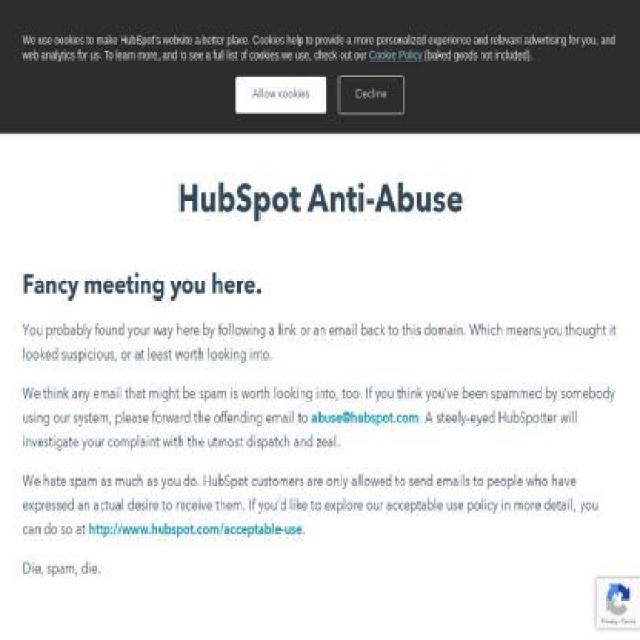button: (402, 80, 484, 134), (279, 80, 355, 134), (108, 10, 192, 58), (483, 80, 557, 134), (22, 11, 104, 58), (235, 75, 327, 114), (521, 16, 613, 53), (556, 80, 618, 134), (338, 74, 405, 114), (446, 15, 514, 54), (355, 80, 402, 134), (22, 94, 88, 120)
field: (412, 26, 438, 48)
